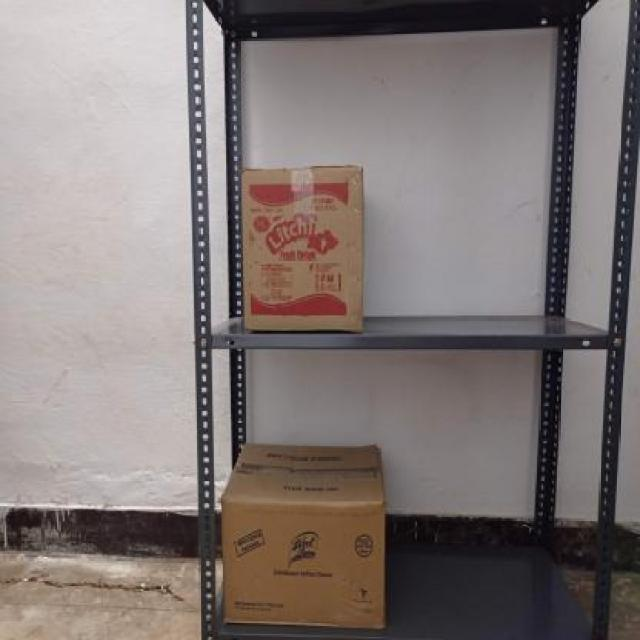box: (220, 496, 386, 627), (242, 167, 364, 336)
